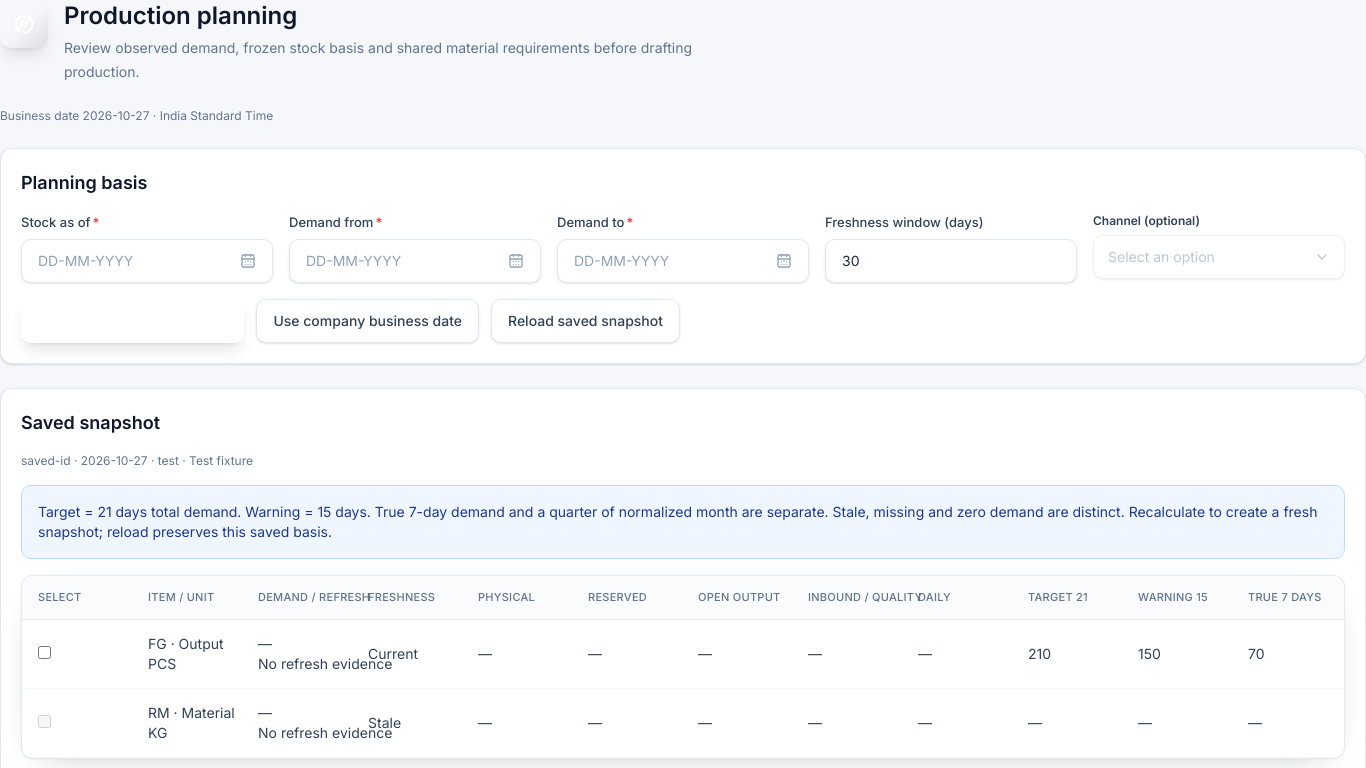
Scenario: saved planning and authoritative material views › submits only selected current outputs as exact strings, displays one server pool and keeps stale rows unavailable
Expected: the checkbox named "Select RM · Material" is disabled, [38,715,51,728]
Step 1. Click the checkbox named "Select FG · Output" → {"x": 44, "y": 653}, box [38,646,51,659]
(page scrolled)
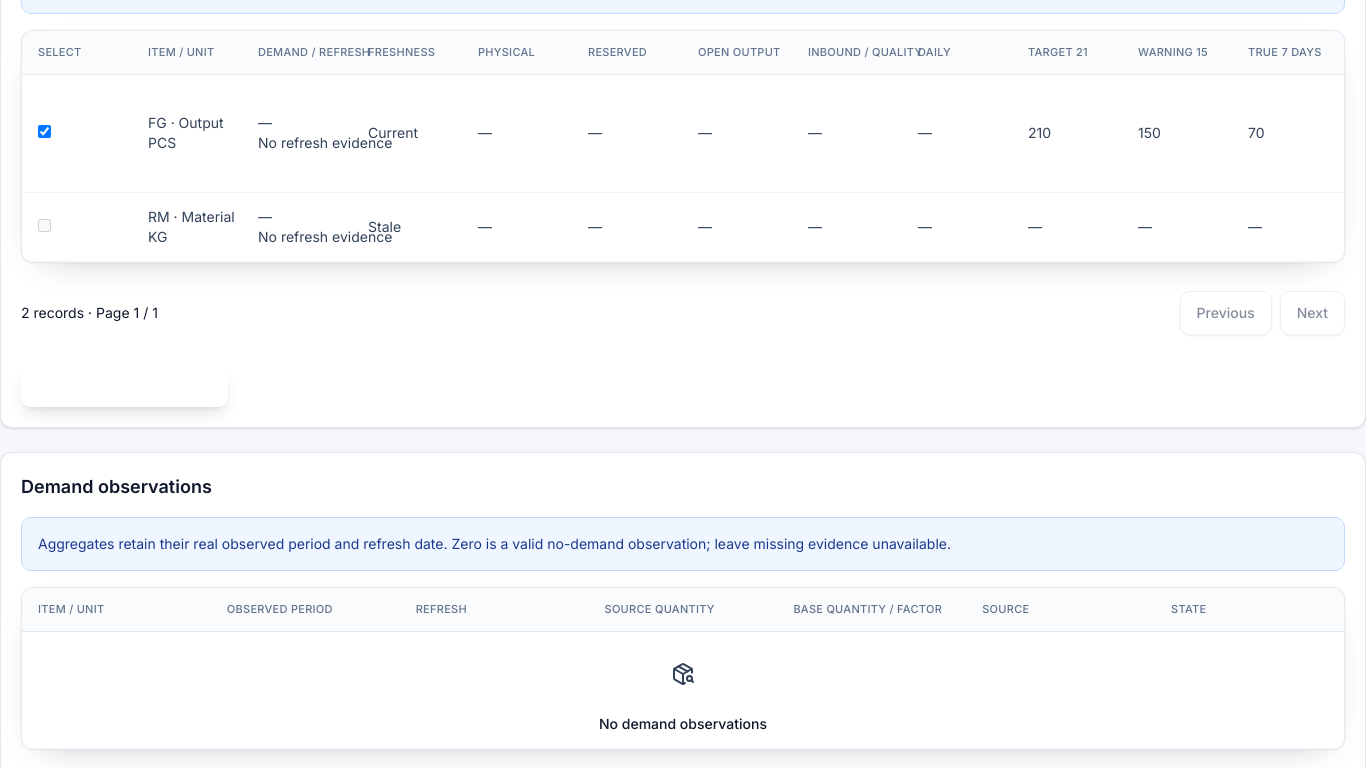
Step 2. Click the button "Shared material feasibility" → {"x": 125, "y": 385}, box [21,363,228,407]
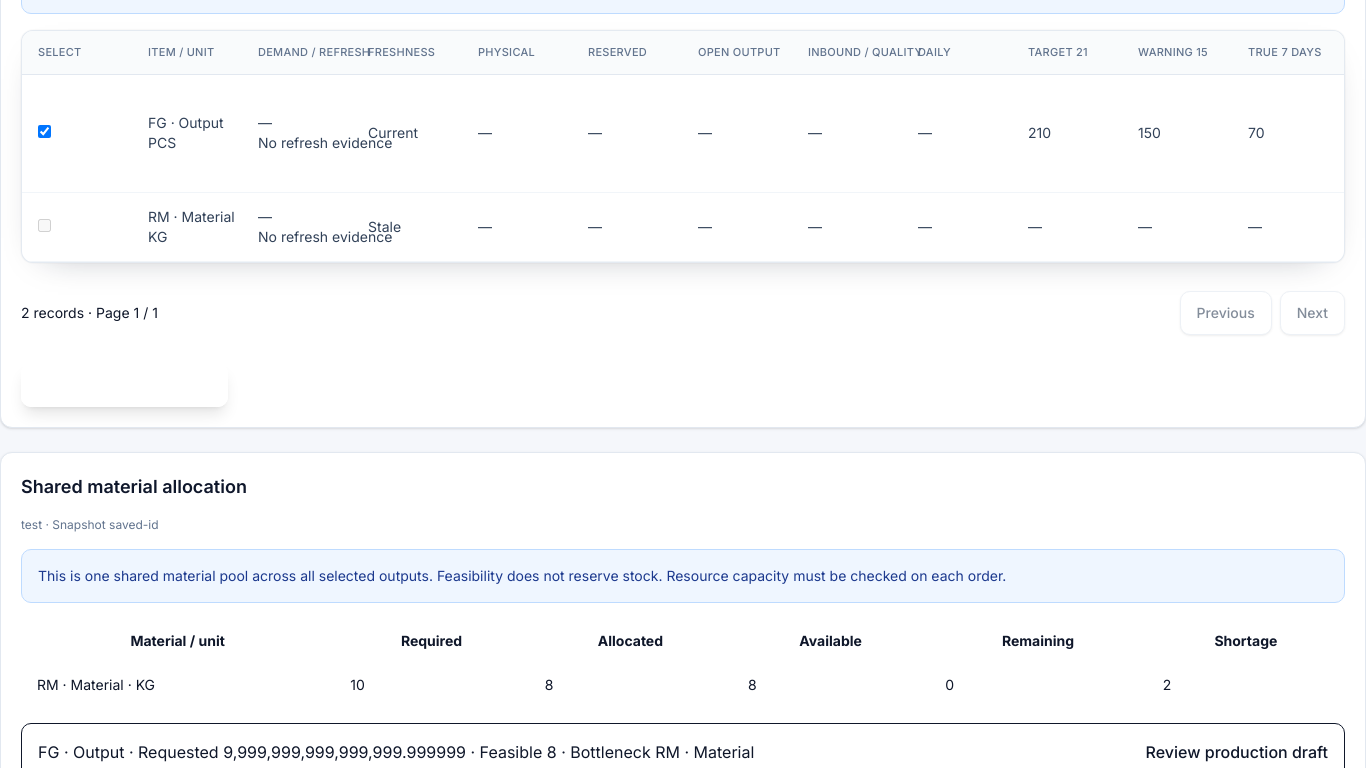
Expected: the link "Review production draft" is shown, [1146,740,1328,764]
Expected: the text "one shared material pool" is shown, [38,567,1006,584]
